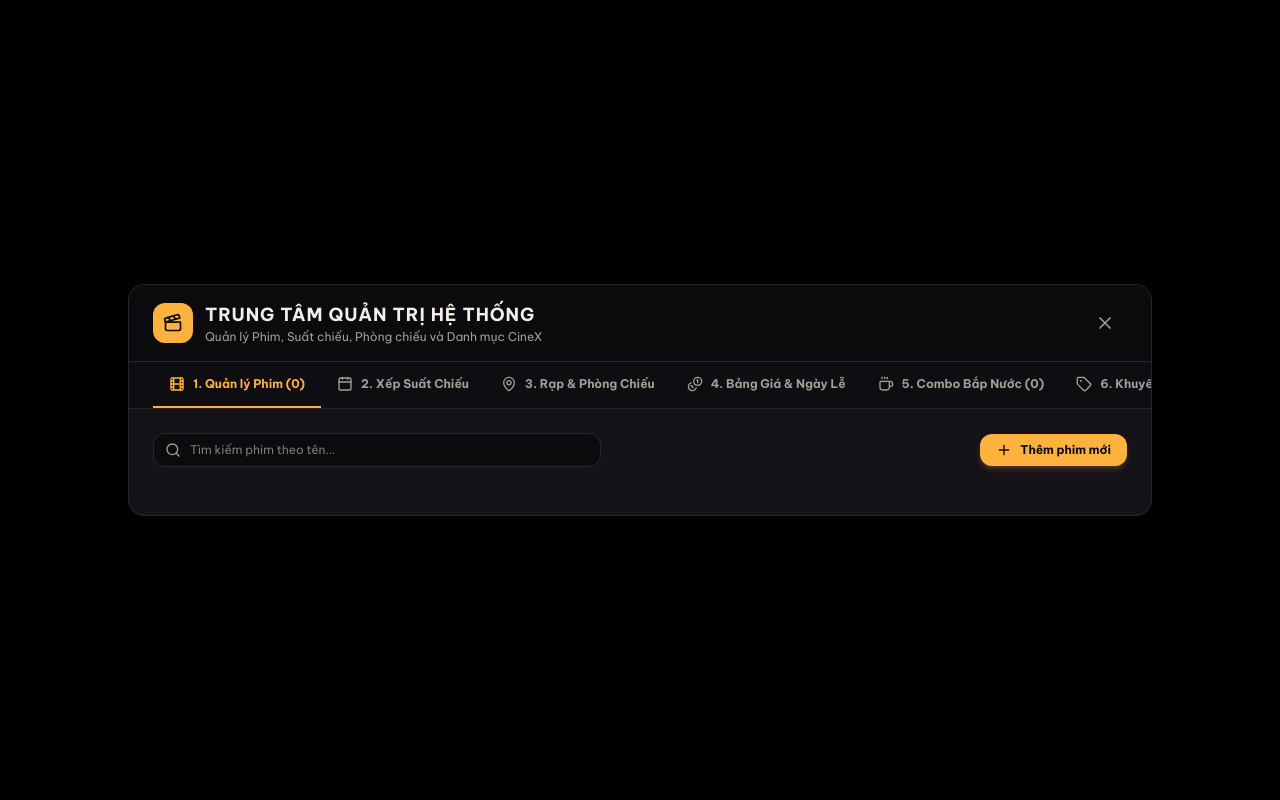
Test: AdminManagementModal › switches to showtimes tab and renders showtimes for cinema
The width and height of the screenshot is (1280, 800).
Expected: the heading "Trung Tâm Quản Trị Hệ Thống" is shown, [205,301,542,329]
Click the button "2. Xếp Suất Chiếu".
click(403, 385)  # box [321,362,485,408]
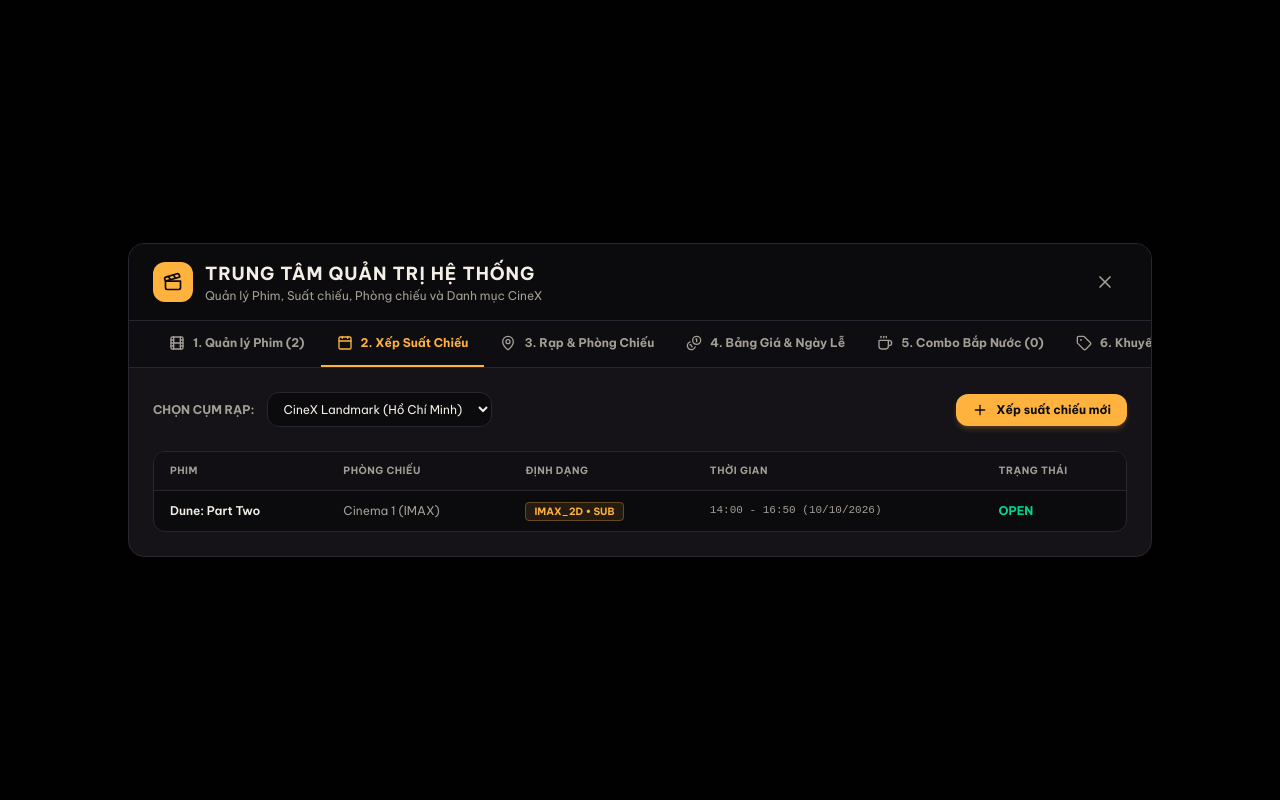
Now the text "Chọn cụm rạp:" is shown, box [153,402,254,418]
Now the text "Cinema 1 (IMAX)" is shown, box [327,490,510,531]
